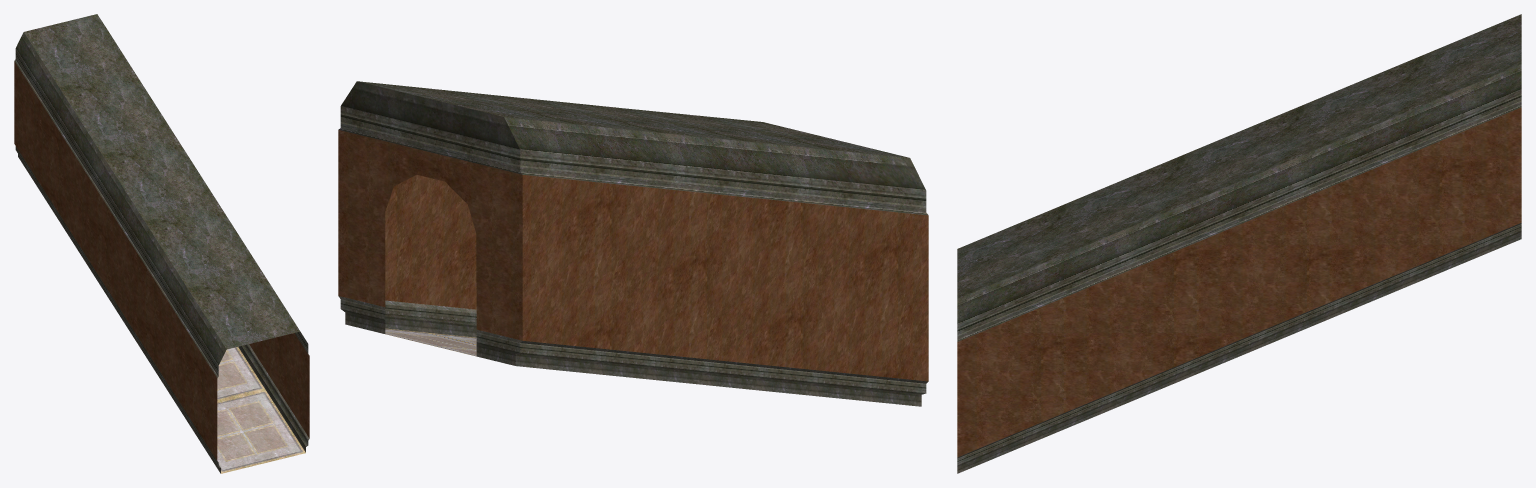
File: thm_nboo_thed_theed_palace_r28_mesh_r28.fbx
3 views of the same model, side by side, from view 1: azimuth 30°, elevation 25°; view 2: azimuth 150°, elevation 25°; view 3: azimuth 270°, elevation 25° (orthographic). The views are drawn at different scales.
Visible parts, largest first — view 1: mesh_node; view 2: mesh_node; view 3: mesh_node.
Part boxes in pixels (x1,y1,x2,y2): mesh_node: (14,14,309,473); mesh_node: (338,81,928,406); mesh_node: (957,14,1521,473).
Size of the model in its own units: 8 by 24.2 by 30.49.
